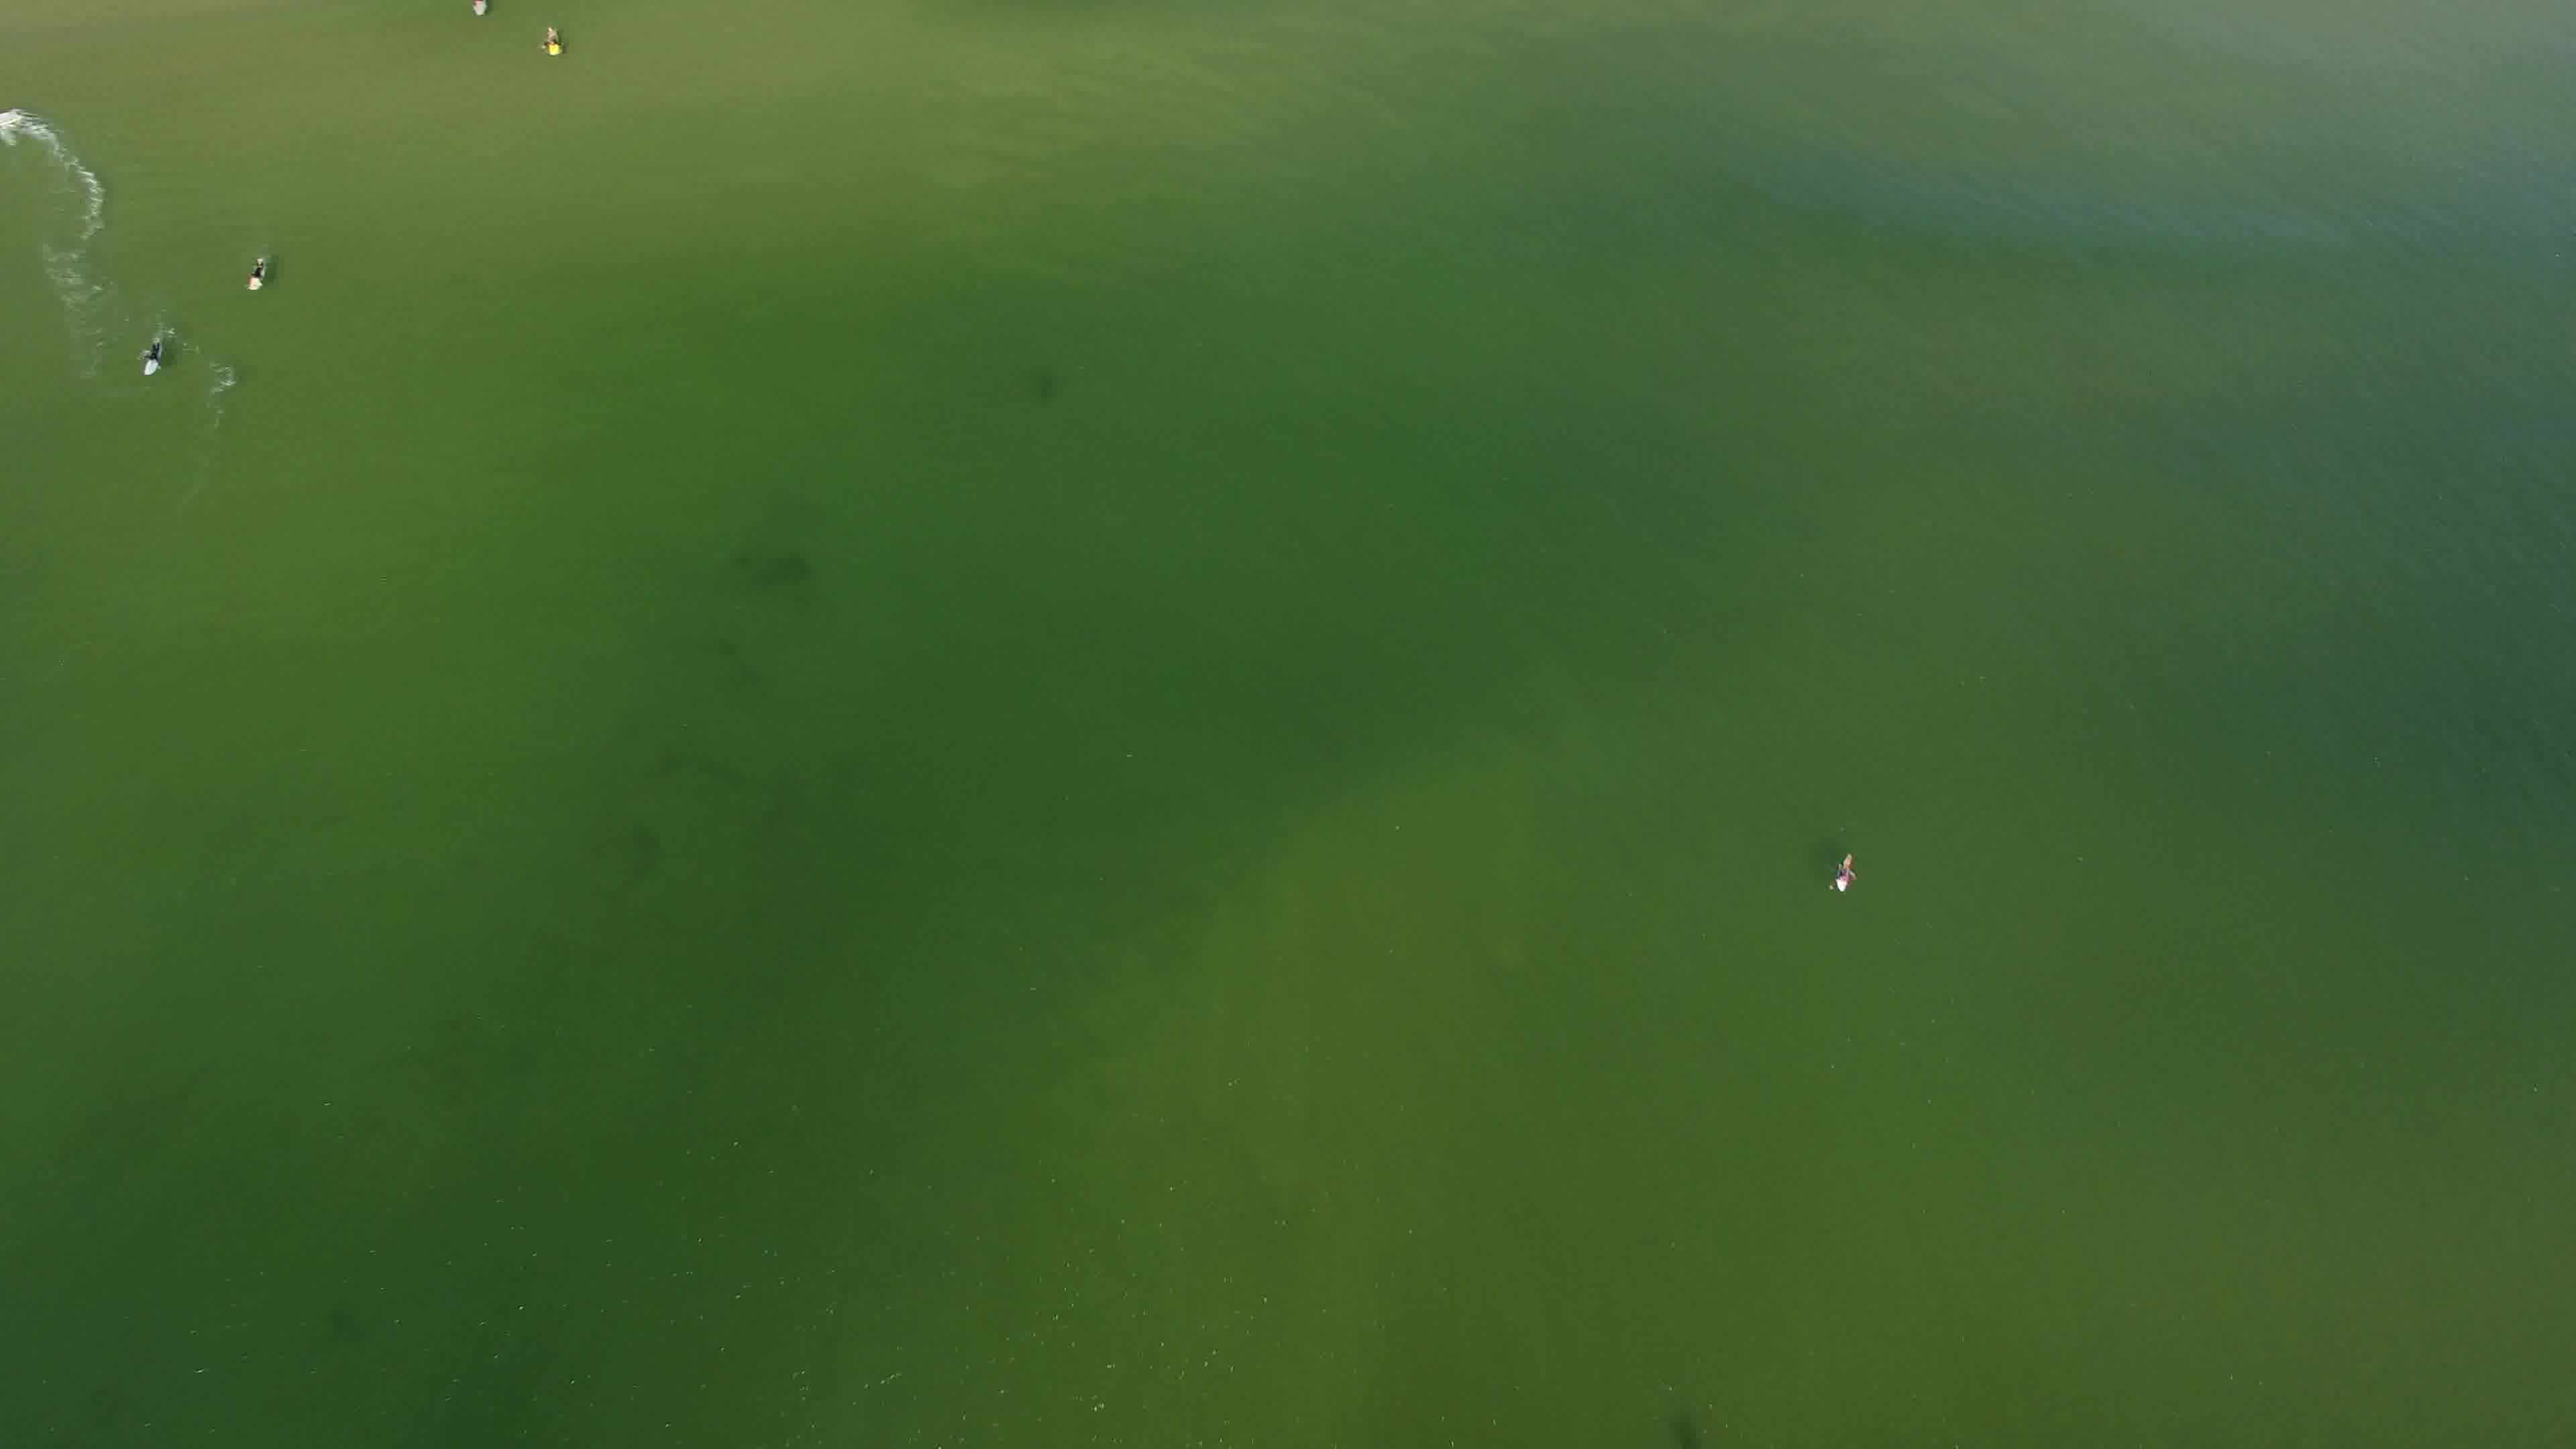surfer: (1826, 844, 1861, 901), (134, 333, 172, 382), (239, 249, 272, 292), (538, 25, 568, 67)
